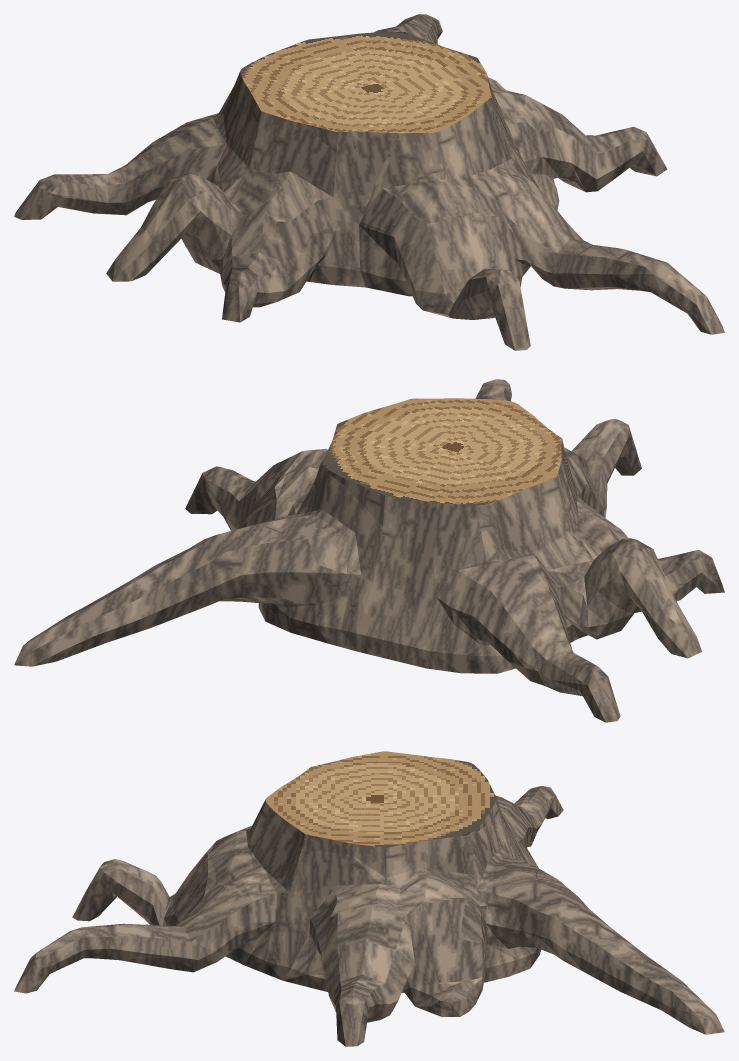
File: environment_elm1_stump_v76.fbx
3 views of the same model, one above another, from view 1: azimuth 30°, elevation 25°; view 2: azimuth 150°, elevation 25°; view 3: azimuth 270°, elevation 25° (orthographic). The views are drawn at different scales.
Visible parts, largest first — view 1: environment_elm1_stump_v76; view 2: environment_elm1_stump_v76; view 3: environment_elm1_stump_v76.
Boxes of the visible parts, box(x1,y1,x2,y2) form: environment_elm1_stump_v76: box(14, 14, 724, 350); environment_elm1_stump_v76: box(14, 379, 724, 722); environment_elm1_stump_v76: box(14, 751, 724, 1046).
Bounding box in the file's own units: 475 × 115 × 596.
2 materials, 2 textured.
